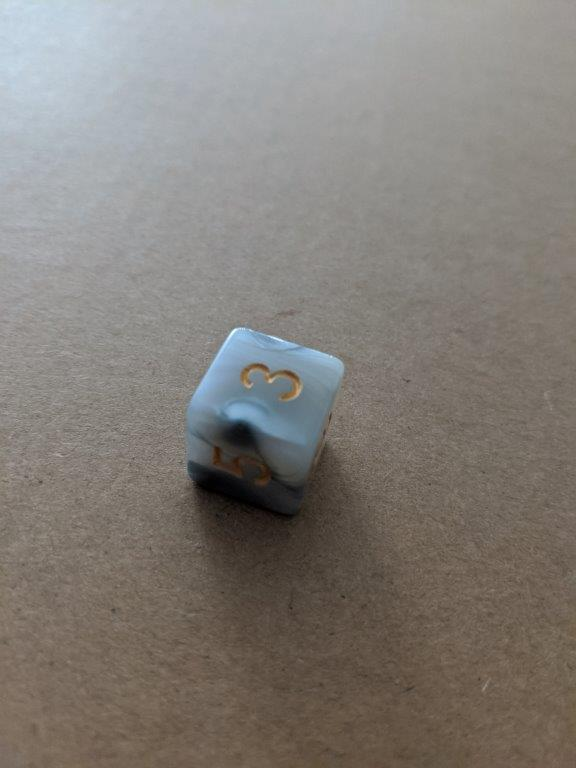d6-3: (182, 324, 346, 516)
